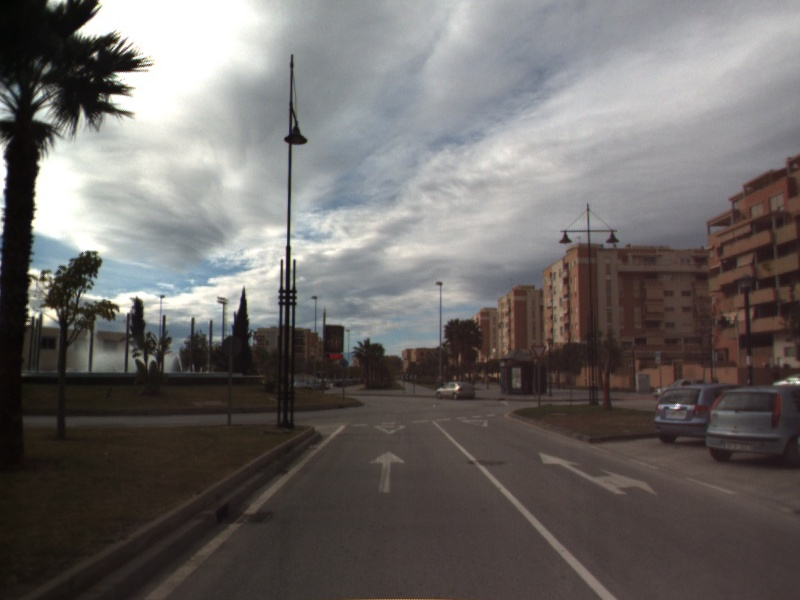STRAIGHT: (367, 449, 407, 496)
STRAIGHT_RIGHT: (538, 451, 659, 497)
